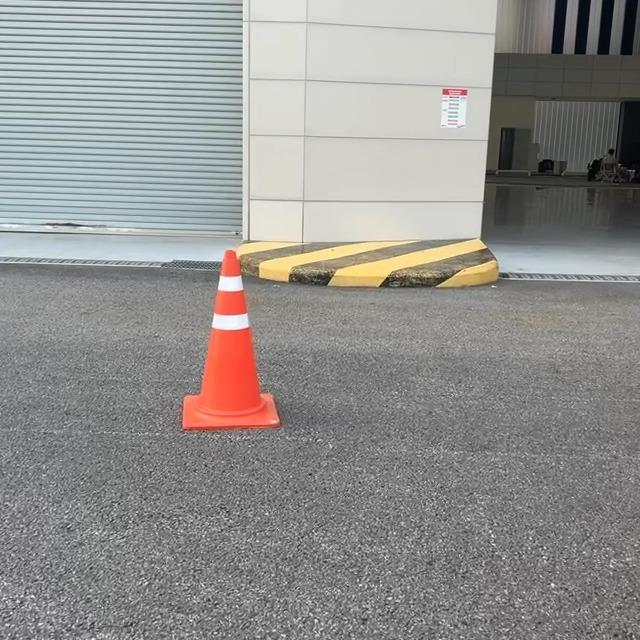fallen_object: (130, 220, 322, 456)
